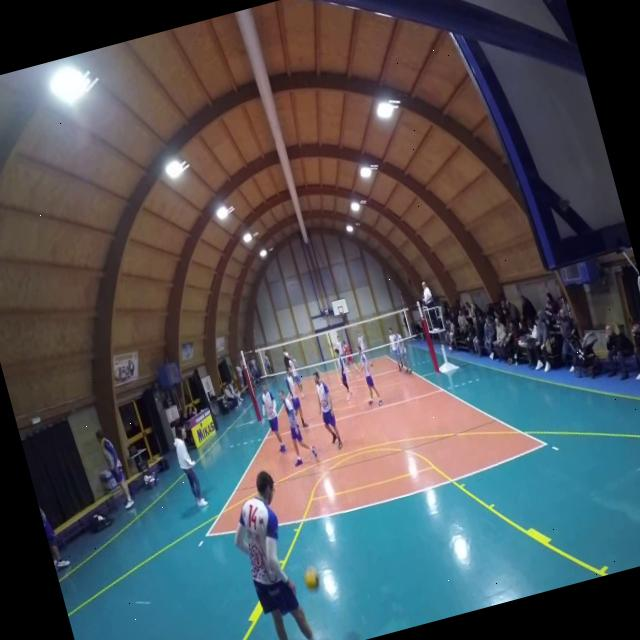Volleyball: (300, 562, 322, 597)
